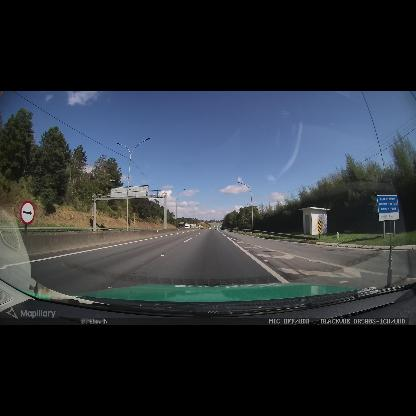O-MP: (318, 220, 322, 233)
R-24a: (20, 201, 35, 225)
